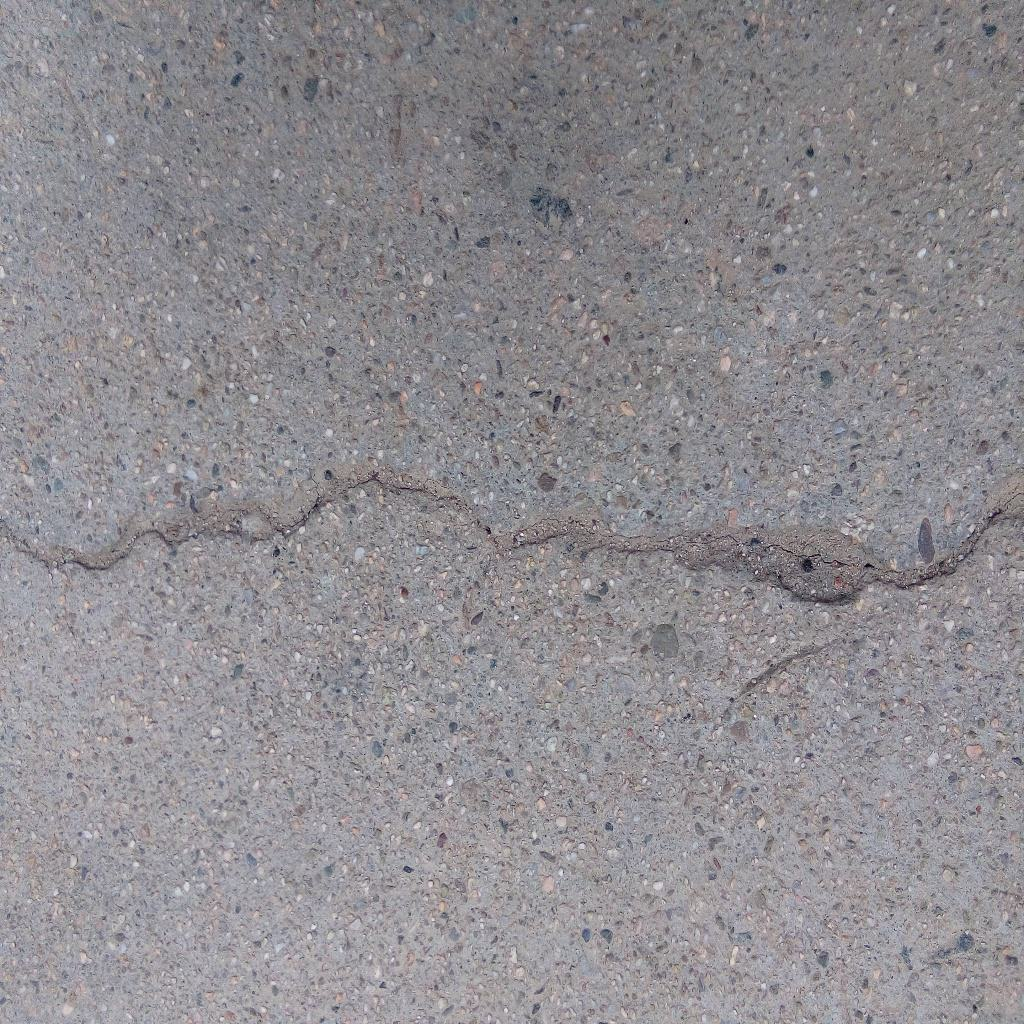Crack: (1, 461, 1024, 606)
